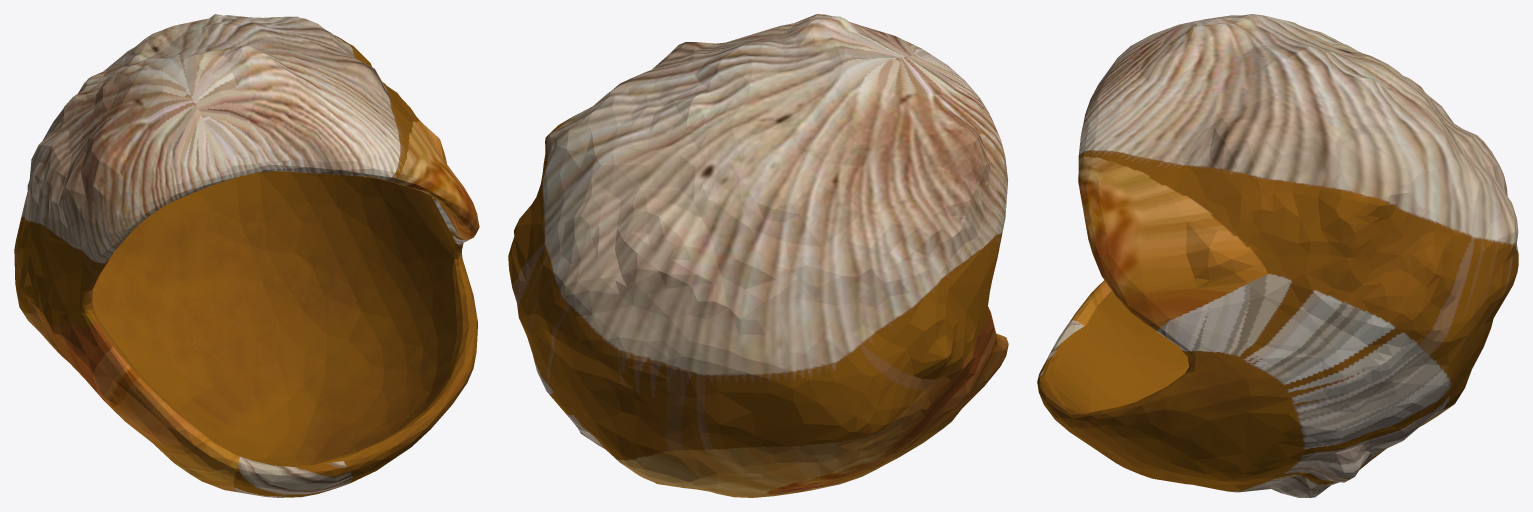
The picture shows the model from 3 angles, left to right: view 1: azimuth 30°, elevation 25°; view 2: azimuth 150°, elevation 25°; view 3: azimuth 270°, elevation 25°; orthographic projection. The views are drawn at different scales.
Bounding box in the file's own units: 0.2635 × 0.2856 × 0.2897.
